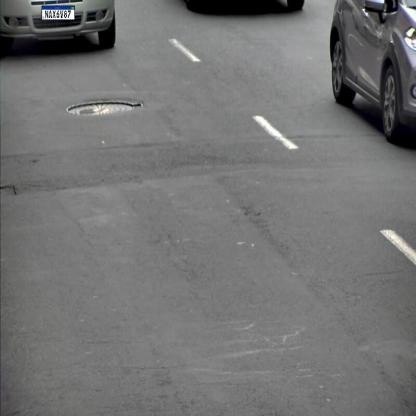PlacaM: (41, 6, 75, 20)
